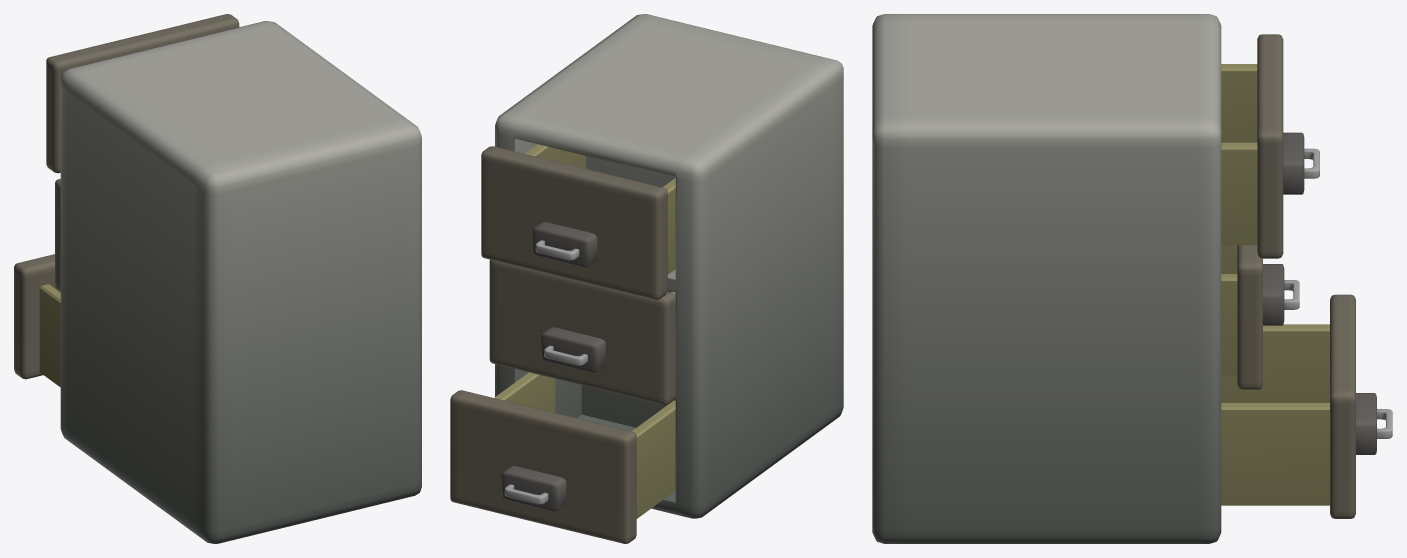
Rendered from small_cabin_03.fbx.
3 renders of one model, left to right at view 1: azimuth 30°, elevation 25°; view 2: azimuth 150°, elevation 25°; view 3: azimuth 270°, elevation 25°, orthographic. The views are drawn at different scales.
Visible parts, largest first — view 1: small_cabin_03; view 2: small_cabin_03; view 3: small_cabin_03.
Boxes of the visible parts, x1=… form: small_cabin_03: x1=14, y1=14, x2=421, y2=543; small_cabin_03: x1=450, y1=14, x2=843, y2=543; small_cabin_03: x1=872, y1=14, x2=1392, y2=543.
Bounding box in the file's own units: 40.17 × 65.75 × 73.82.
